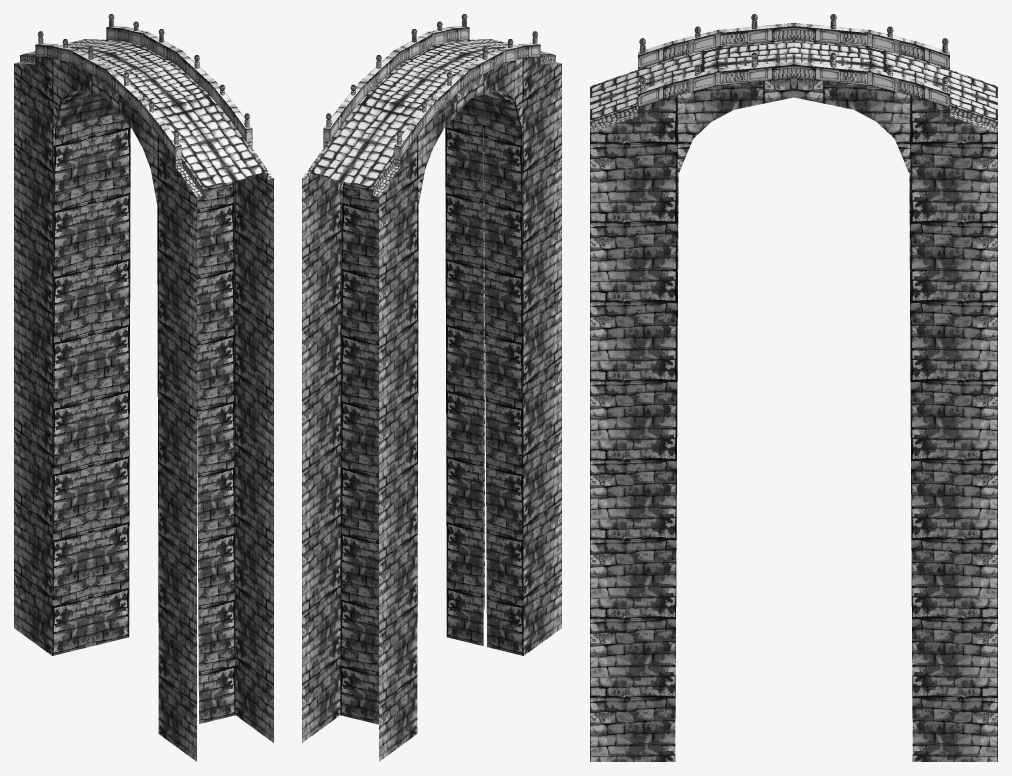
The model's file is Bridge.fbx.
3 views of the same model, side by side, from view 1: azimuth 30°, elevation 25°; view 2: azimuth 150°, elevation 25°; view 3: azimuth 270°, elevation 25° (orthographic). The views are drawn at different scales.
Visible parts, largest first — view 1: Bridge1; view 2: Bridge1; view 3: Bridge1.
Part boxes in pixels (<box>): Bridge1: <box>14,14,273,761</box>; Bridge1: <box>302,14,561,761</box>; Bridge1: <box>590,14,997,761</box>.
Bounding box in the file's own units: 8.72 × 68.82 × 35.96.
